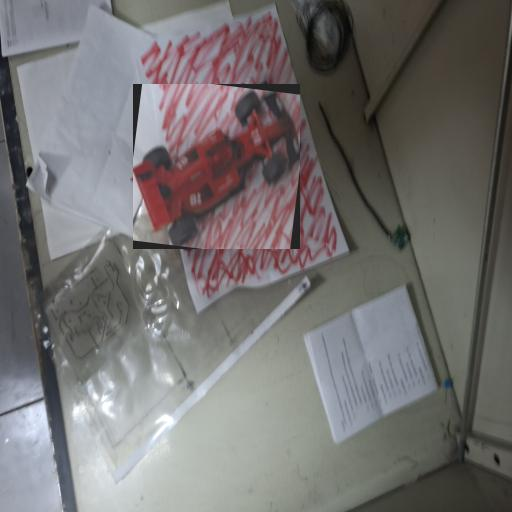carro: (132, 84, 298, 249)
